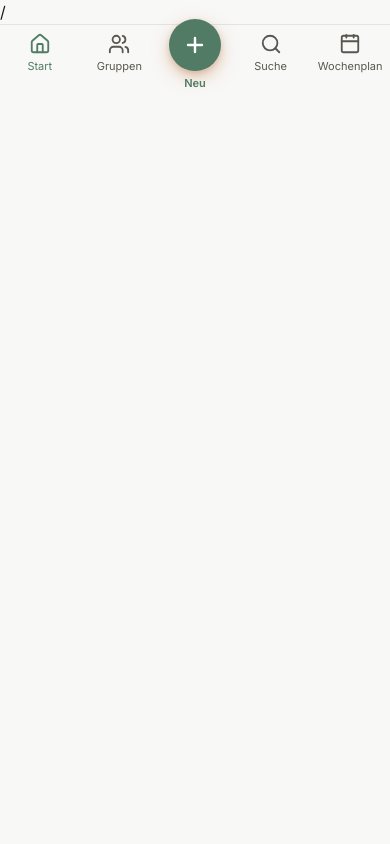
<BottomNav /> › only offers "Neue Gruppe anlegen" when the user is in 0 groups
Click the button with aria-label "neues rezept".
click(195, 64)  # box [159, 25, 231, 104]
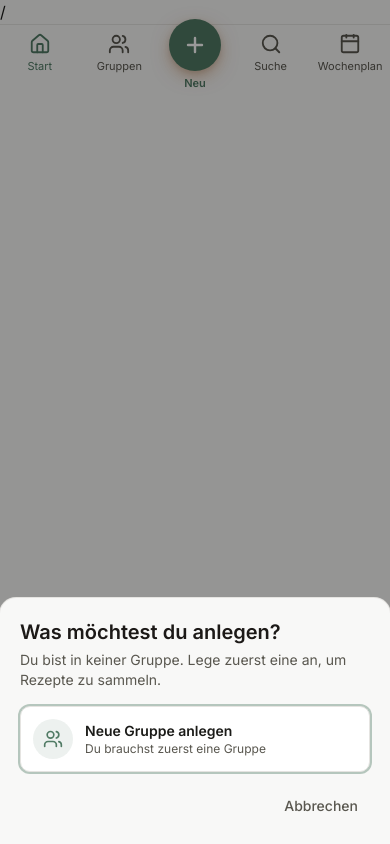
Now the dialog "Was möchtest du anlegen" is shown
Now the button "Neue Gruppe anlegen Du brauchst zuerst eine Gruppe" is shown, box [20, 706, 370, 772]
